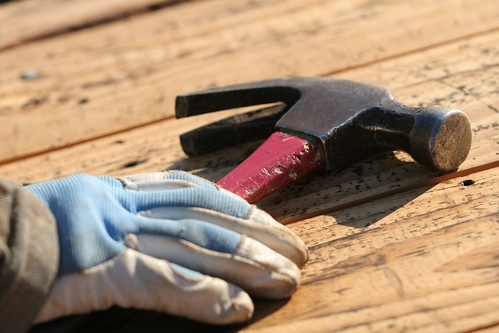hammer: (168, 70, 474, 300)
